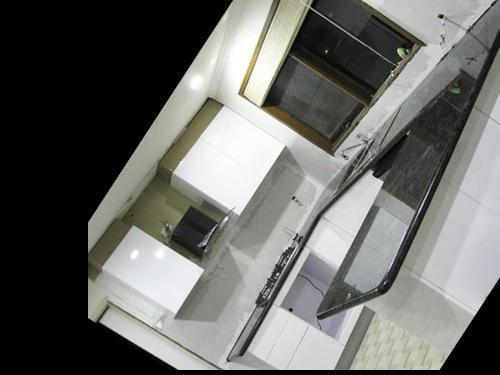Lavaplatos: (320, 118, 389, 203)
